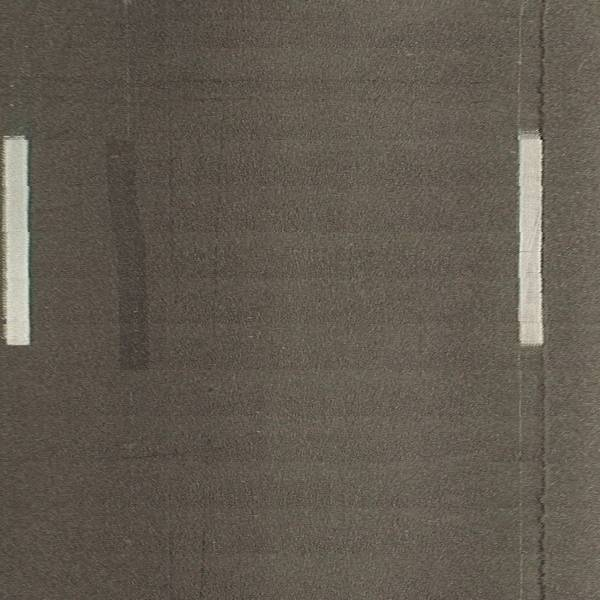road_damage: (93, 71, 324, 92), (537, 409, 554, 600)
